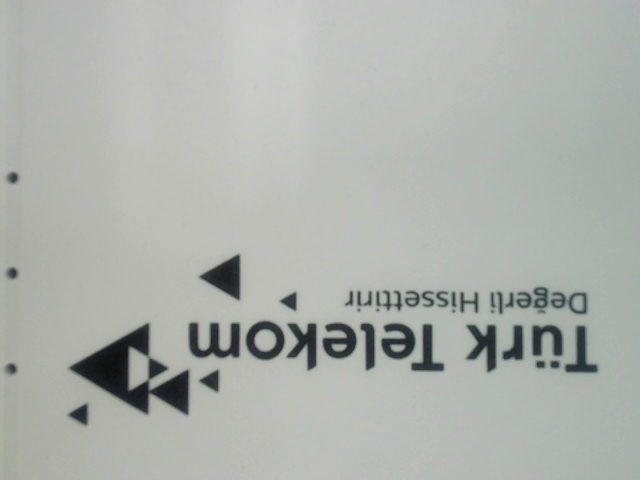AQ_TURKTelekom: (52, 250, 605, 429)
